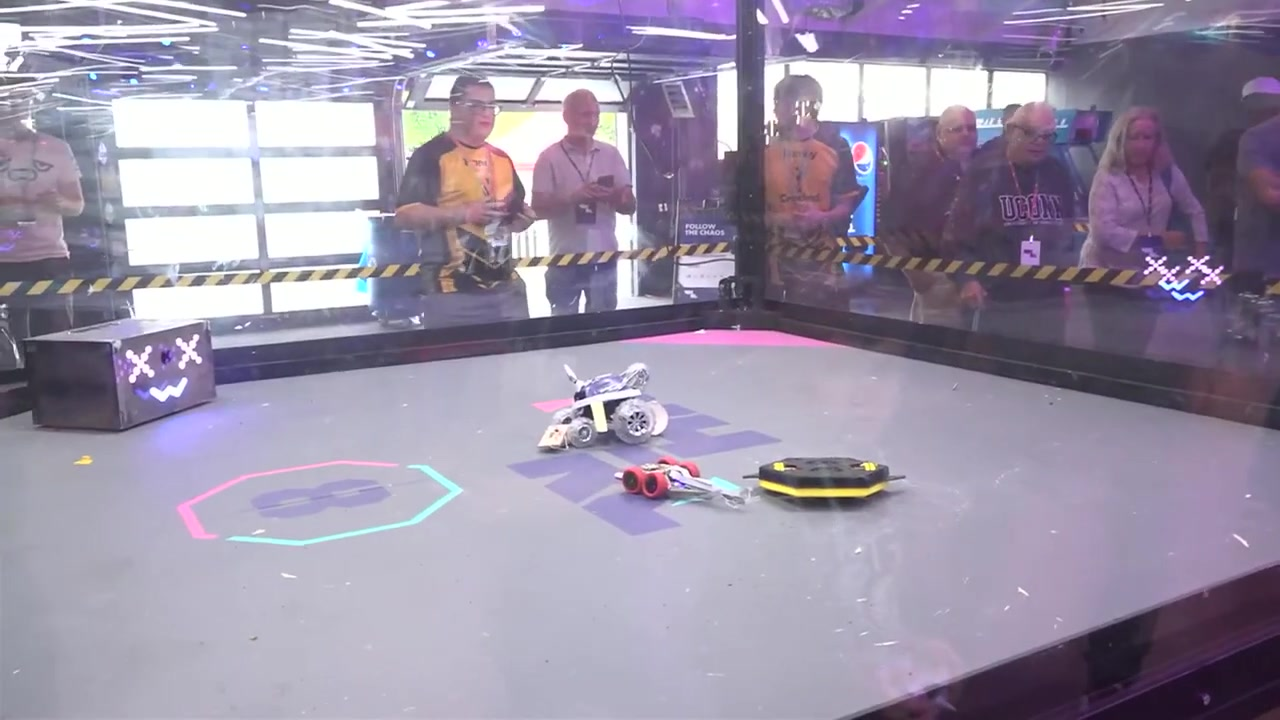combatbot: (539, 365, 669, 451), (759, 454, 893, 507)
housebot: (27, 319, 219, 432)
minibot: (615, 454, 707, 502)
